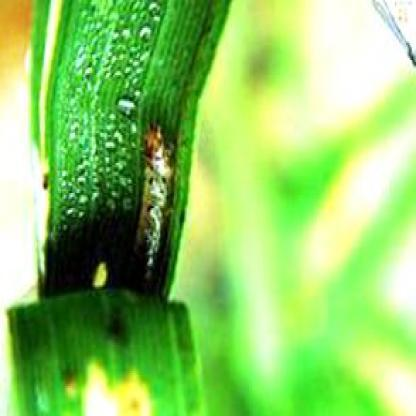leaf-folder: (118, 110, 191, 300)
